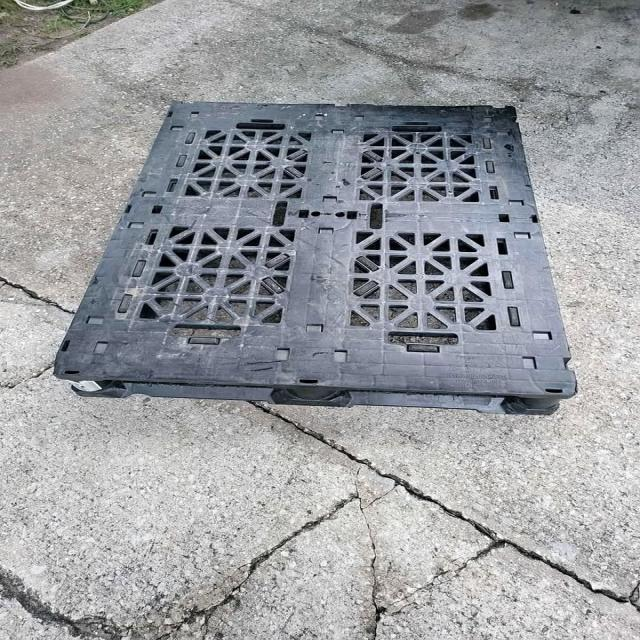igps: (49, 99, 580, 416)
